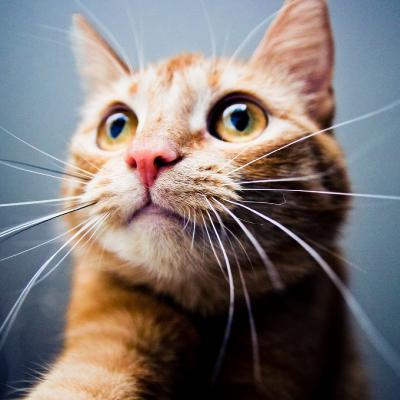cat: (50, 8, 369, 306)
